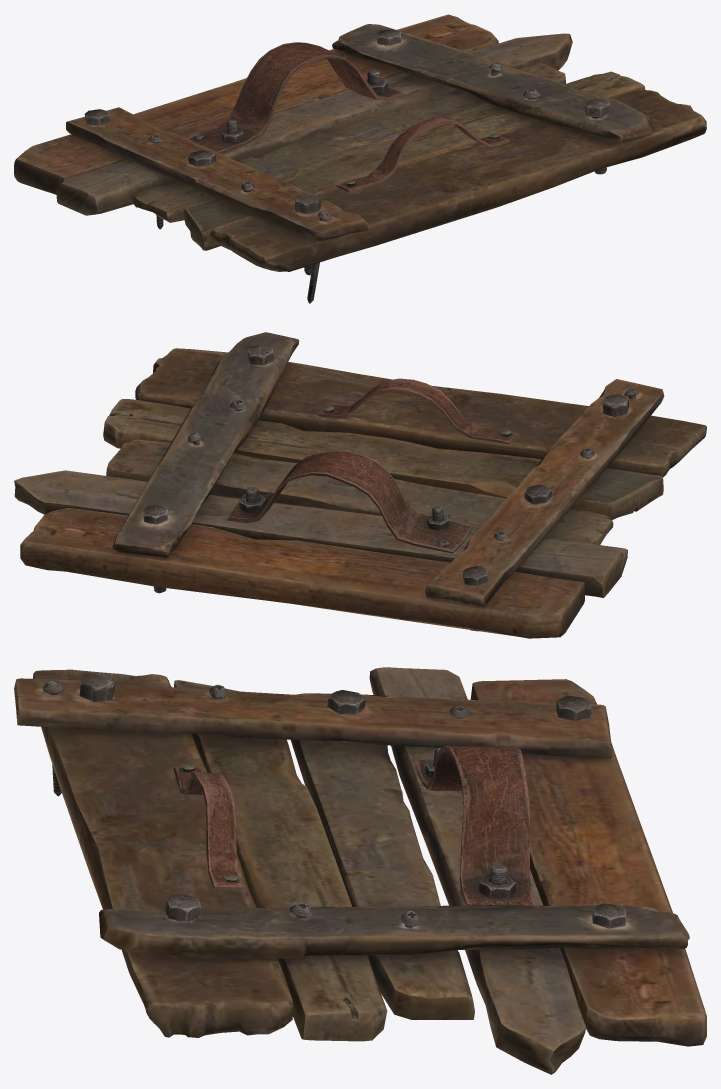
The model's file is woodenshield.backpack.glb.
3 views of the same model, one above another, from view 1: azimuth 30°, elevation 25°; view 2: azimuth 150°, elevation 25°; view 3: azimuth 270°, elevation 25° (orthographic). The views are drawn at different scales.
Visible parts, largest first — view 1: w_wooden_shield_LOD0; view 2: w_wooden_shield_LOD0; view 3: w_wooden_shield_LOD0.
Part boxes in pixels (<box>): w_wooden_shield_LOD0: <box>14,14,706,303</box>; w_wooden_shield_LOD0: <box>14,332,706,638</box>; w_wooden_shield_LOD0: <box>14,667,706,1074</box>.
Size of the model in its own units: 0.7694 by 0.1768 by 0.6144.
2 materials, 2 textured.
